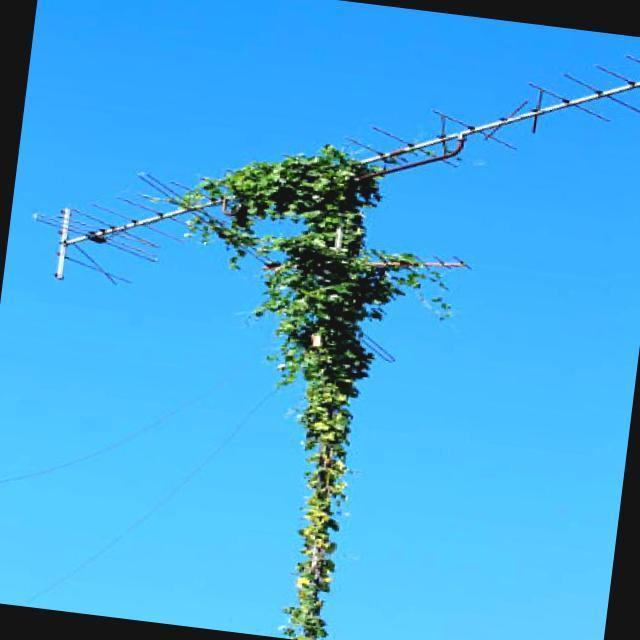critical vegetation: (143, 134, 456, 638)
